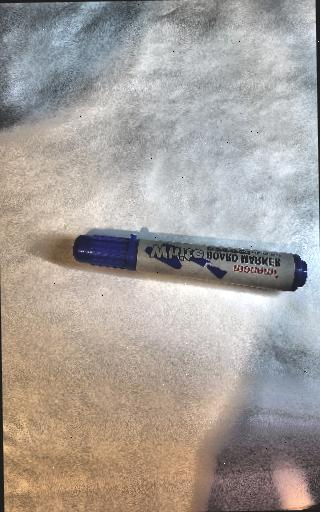marcador azul: (73, 234, 308, 291)
